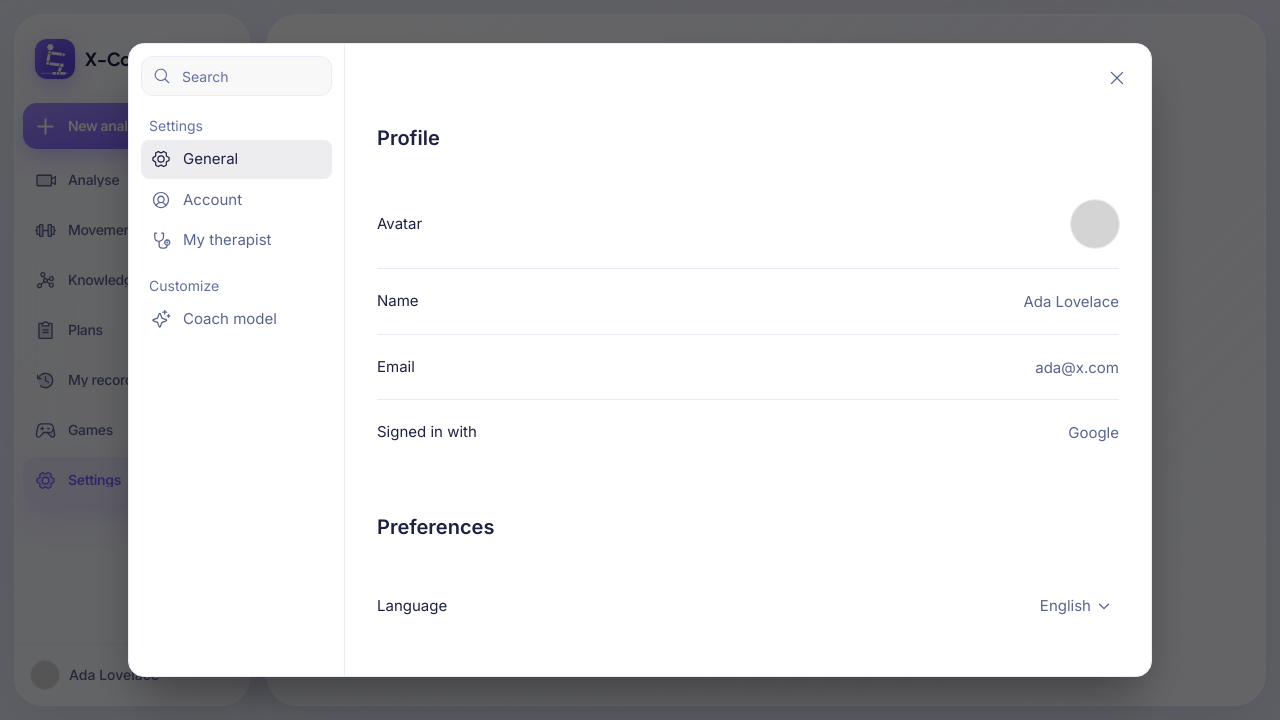
Test: Settings — my therapist › shows the invalid/expired copy on a 404
Click the button "My therapist" at [236, 240], box [141,221,332,260]
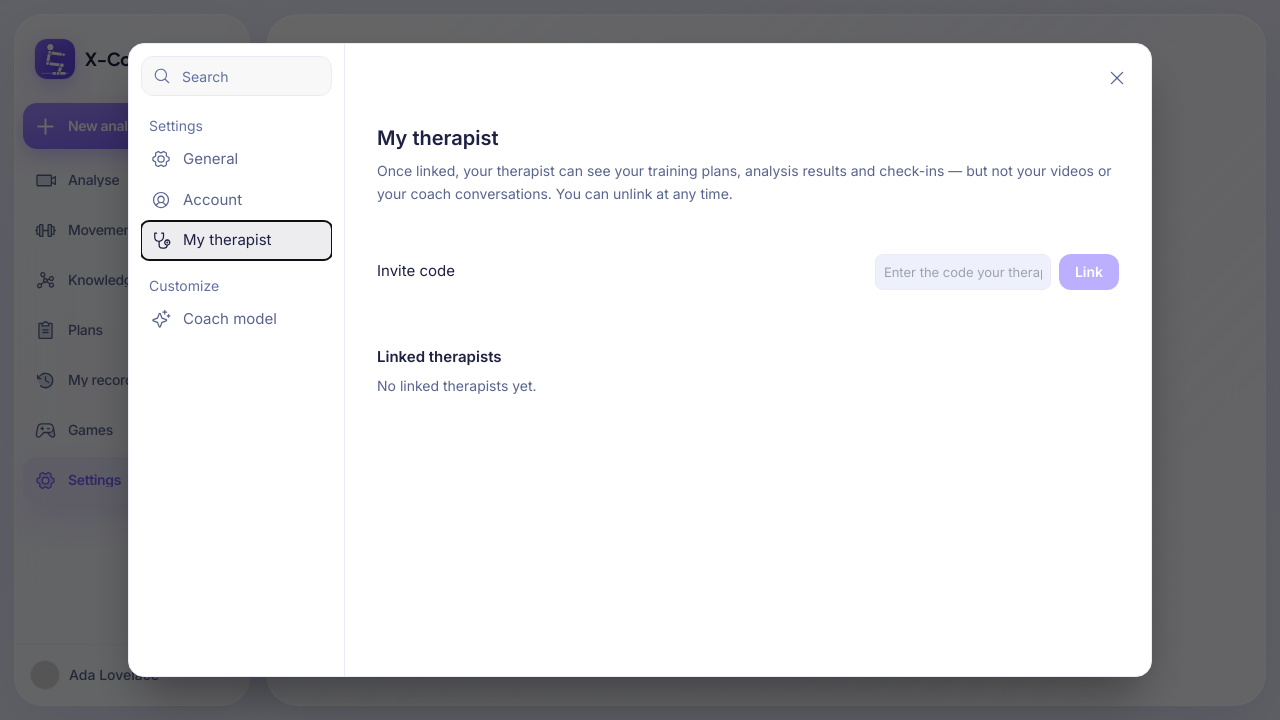
Type "BAD" into the field named "invite code" at [963, 272], box [875,254,1051,290]
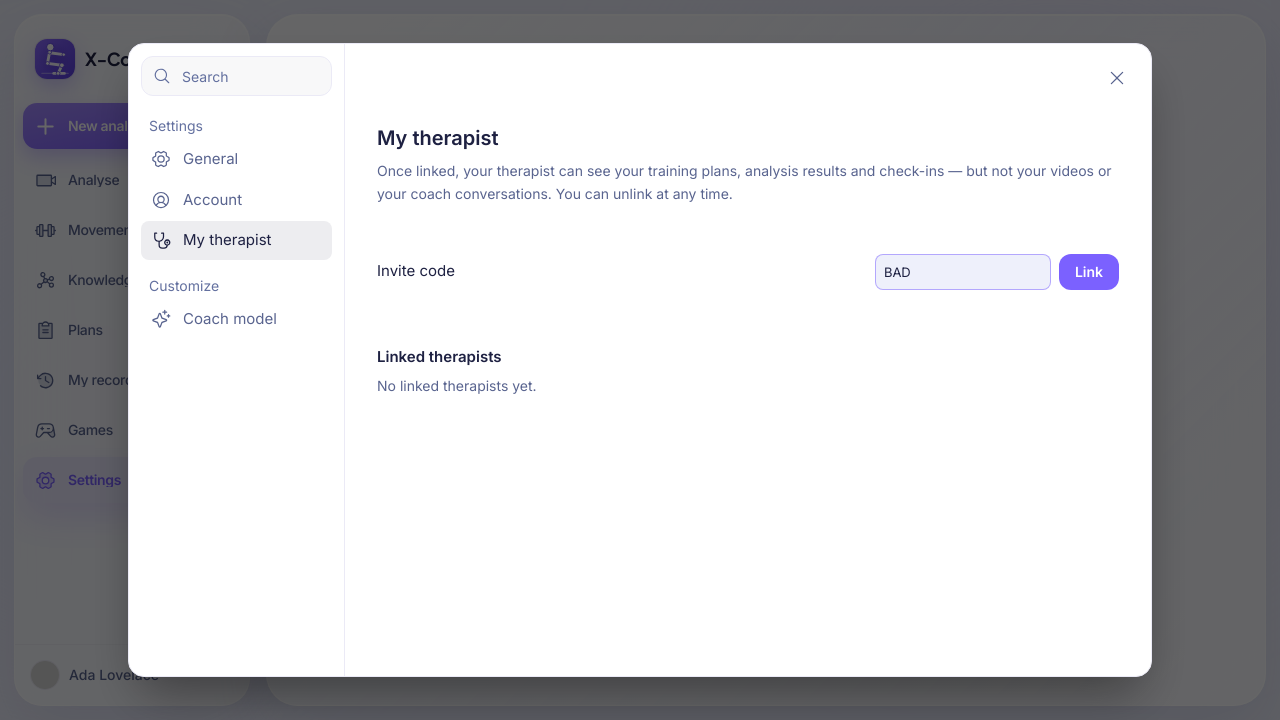
Click the button "Link" at [1089, 272], box [1059,254,1119,290]
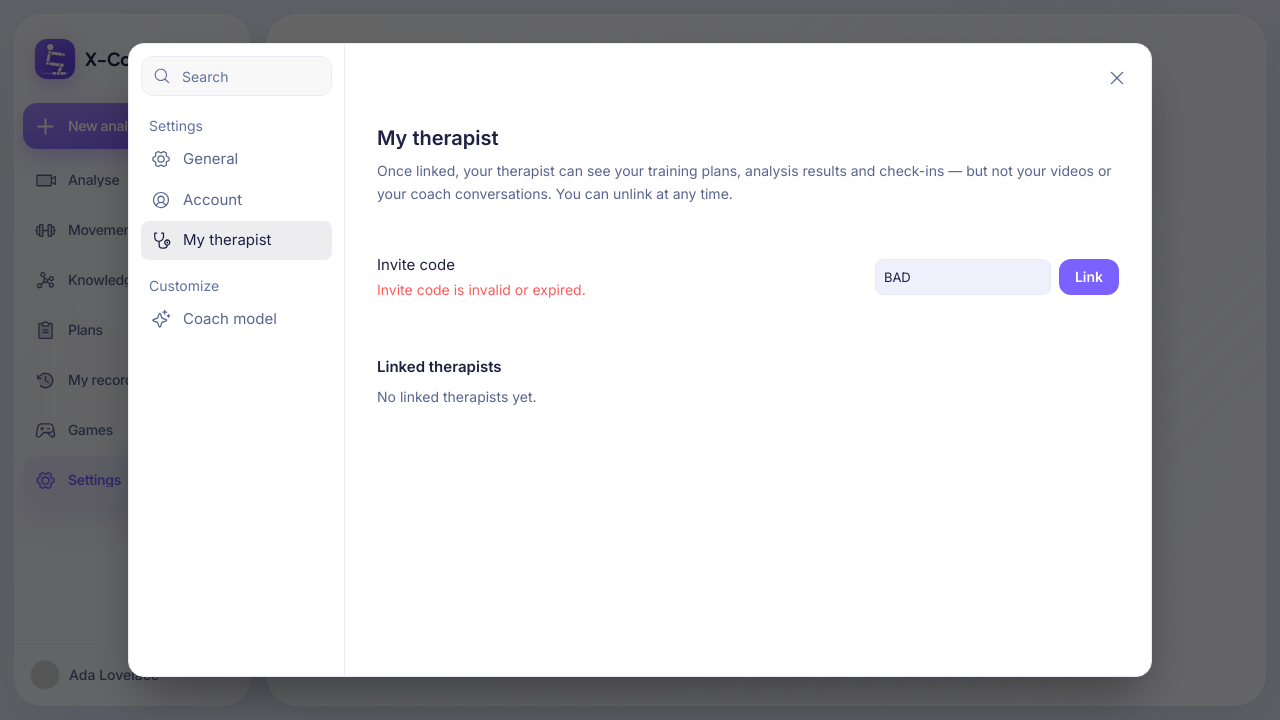
expect the text "Invite code is invalid or expired." is shown: met, box [377,281,586,298]
